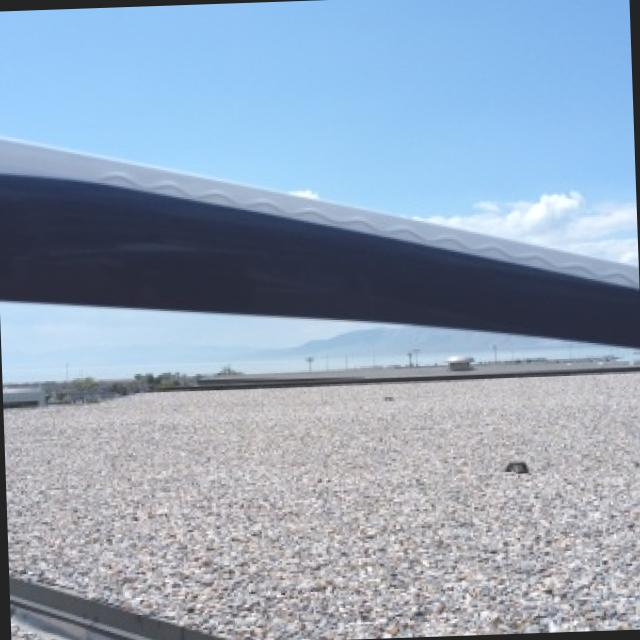healthy: (3, 375, 640, 640), (0, 137, 639, 345)
